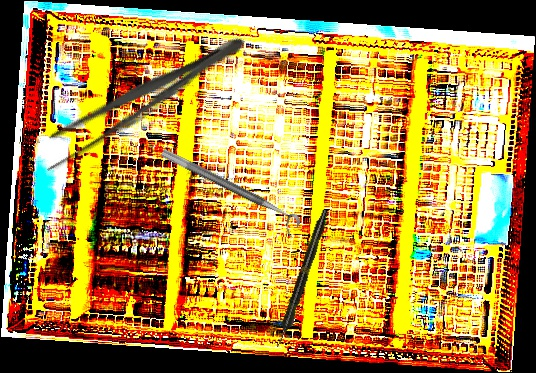Dressing Forceps: (31, 22, 254, 177)
Fixation Ring: (153, 147, 304, 239)
Handpiece: (272, 207, 332, 350)
